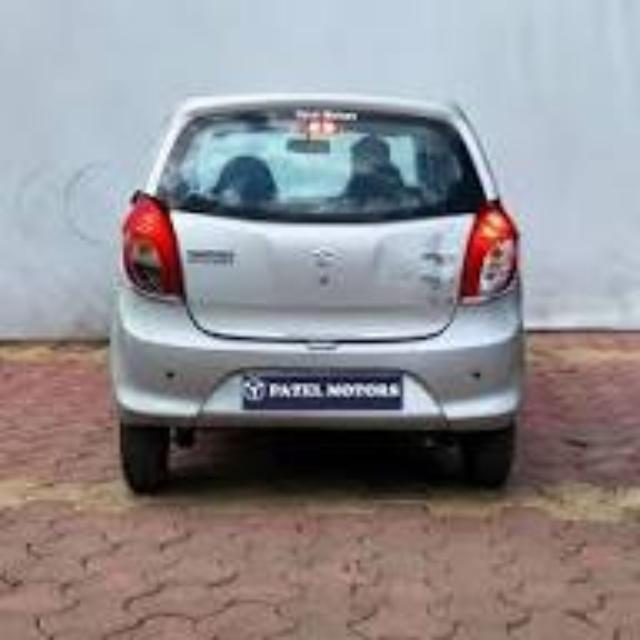number-plate: (237, 364, 404, 411)
vehicles: (97, 87, 540, 490)
